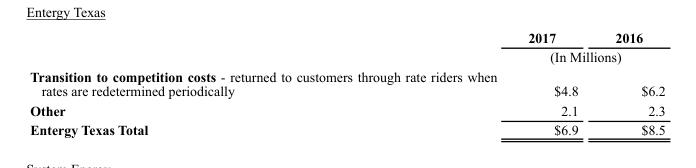table: (29, 29, 664, 136)
table column: (29, 29, 511, 136), (511, 29, 596, 136), (596, 29, 664, 136)
table column header: (29, 29, 664, 66)
table row: (29, 66, 664, 100), (29, 46, 664, 66), (29, 100, 664, 119), (29, 29, 664, 46), (29, 119, 664, 136)
table spanning cell: (511, 46, 664, 66)
